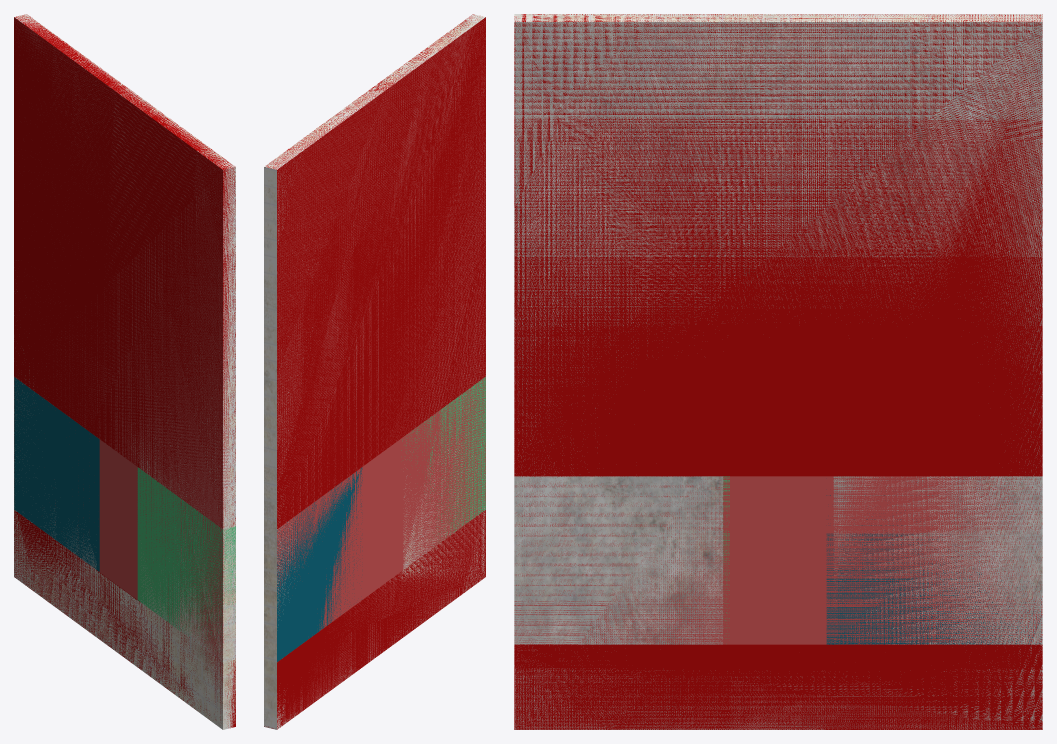
Rendered from warehouse_wall_door.DAE.
The picture shows the model from 3 angles, left to right: view 1: azimuth 30°, elevation 25°; view 2: azimuth 150°, elevation 25°; view 3: azimuth 270°, elevation 25°; orthographic projection. The views are drawn at different scales.
Visible parts, largest first — view 1: colbox-01, bounds, warehouse_wall_door, colbox-02, colbox-03, colbox-04; view 2: colbox-01, bounds, colbox-04, warehouse_wall_door, colbox-02, colbox-03; view 3: colbox-01, warehouse_wall_door, bounds, colbox-04, colbox-02.
Boxes of the visible parts, x1,y1,x2,y2 form: colbox-01: (14, 15, 235, 527); bounds: (14, 16, 235, 723); warehouse_wall_door: (14, 14, 235, 729); colbox-02: (14, 377, 99, 571); colbox-03: (137, 467, 235, 661); colbox-04: (14, 510, 235, 728); colbox-01: (266, 14, 485, 528); bounds: (268, 18, 485, 728); colbox-04: (264, 510, 485, 729); warehouse_wall_door: (264, 14, 485, 729); colbox-02: (277, 467, 362, 661); colbox-03: (401, 377, 485, 546); colbox-01: (514, 14, 1042, 476); warehouse_wall_door: (514, 14, 1042, 729); bounds: (514, 14, 1042, 728); colbox-04: (514, 644, 1042, 729); colbox-02: (826, 495, 1041, 644).
Size of the model in its own units: 24 by 676 by 1000.
